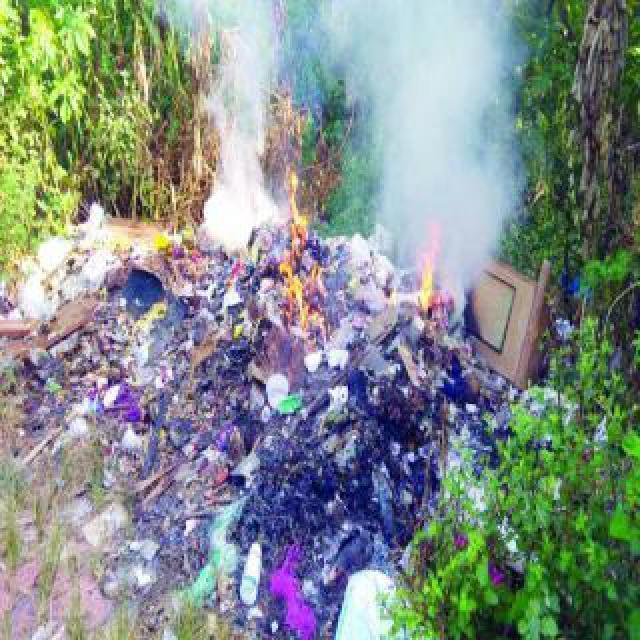Fire: (272, 156, 324, 348), (416, 222, 444, 314)
Smoke: (350, 1, 532, 280), (190, 6, 292, 248)
